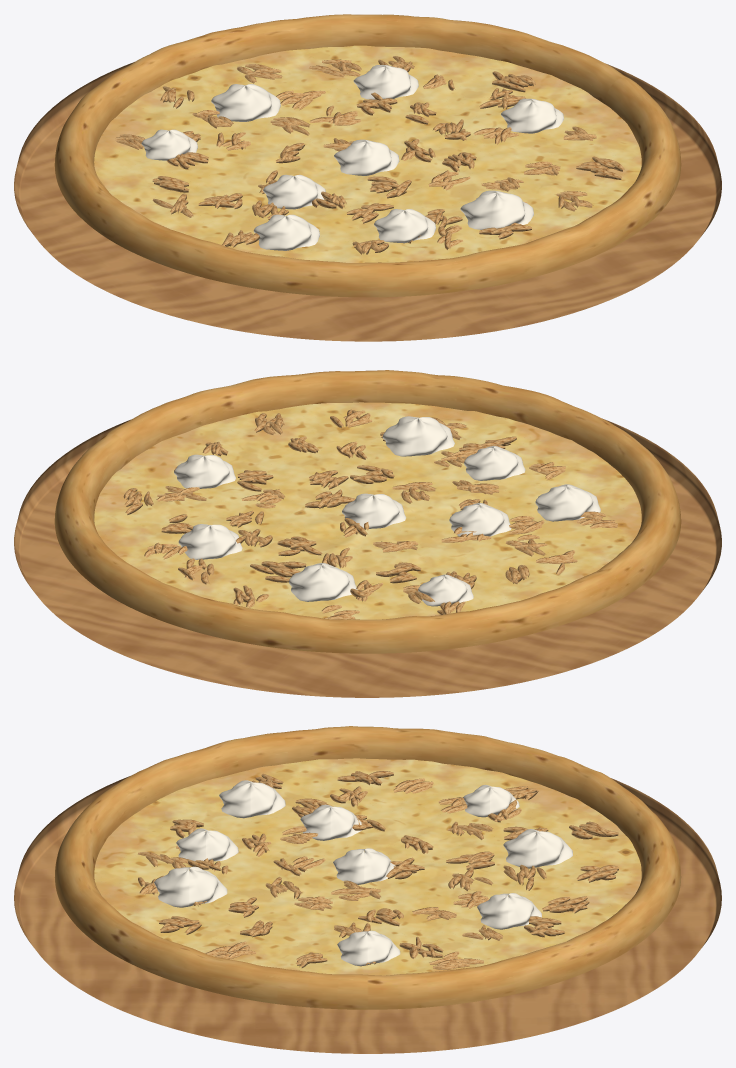
The model's file is pizza-frango-catupiry.glb.
3 renders of one model, top to bottom at view 1: azimuth 30°, elevation 25°; view 2: azimuth 150°, elevation 25°; view 3: azimuth 270°, elevation 25°, orthographic.
Parts seen in each view (by area): view 1: pizza-frango-catupiry; view 2: pizza-frango-catupiry; view 3: pizza-frango-catupiry.
Part boxes in pixels (<box>): pizza-frango-catupiry: <box>14,14,721,341</box>; pizza-frango-catupiry: <box>14,370,721,697</box>; pizza-frango-catupiry: <box>14,726,721,1053</box>.
Size of the model in its own units: 0.432 by 0.041 by 0.432.
5 materials, 4 textured.
